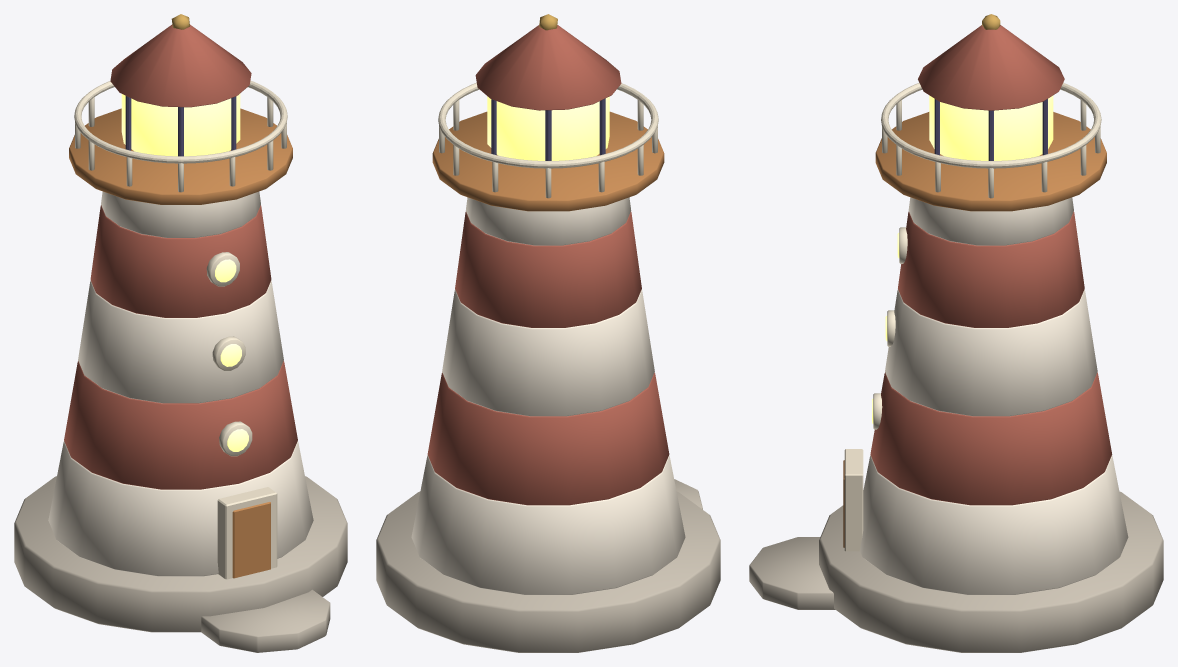
3 renders of one model, left to right at view 1: azimuth 30°, elevation 25°; view 2: azimuth 150°, elevation 25°; view 3: azimuth 270°, elevation 25°, orthographic. The views are drawn at different scales.
Parts seen in each view (by area): view 1: terracotta, cream_wall, limestone, warm_cedar, ivory_trim, amber_glow, warm_slate; view 2: cream_wall, terracotta, limestone, warm_cedar, amber_glow, ivory_trim, warm_slate; view 3: cream_wall, terracotta, limestone, warm_cedar, ivory_trim, amber_glow, warm_slate.
Part boxes in pixels (x1,y1,x2,y2): terracotta: (64, 24, 297, 489); cream_wall: (48, 191, 313, 576); limestone: (14, 476, 347, 652); warm_cedar: (69, 108, 292, 578); ivory_trim: (74, 80, 287, 579); amber_glow: (121, 93, 248, 451); warm_slate: (125, 96, 236, 156); cream_wall: (411, 197, 685, 594); terracotta: (427, 25, 669, 505); limestone: (376, 479, 720, 652); warm_cedar: (432, 111, 664, 211); amber_glow: (487, 96, 609, 160); ivory_trim: (438, 83, 658, 198); warm_slate: (491, 98, 605, 160); cream_wall: (859, 197, 1128, 594); terracotta: (870, 25, 1112, 505); limestone: (749, 491, 1163, 652); warm_cedar: (843, 112, 1106, 547); ivory_trim: (844, 83, 1101, 551); amber_glow: (872, 95, 1053, 423); warm_slate: (934, 99, 1047, 160).
Bounding box in the file's own units: 6.3 × 11.65 × 7.69.
